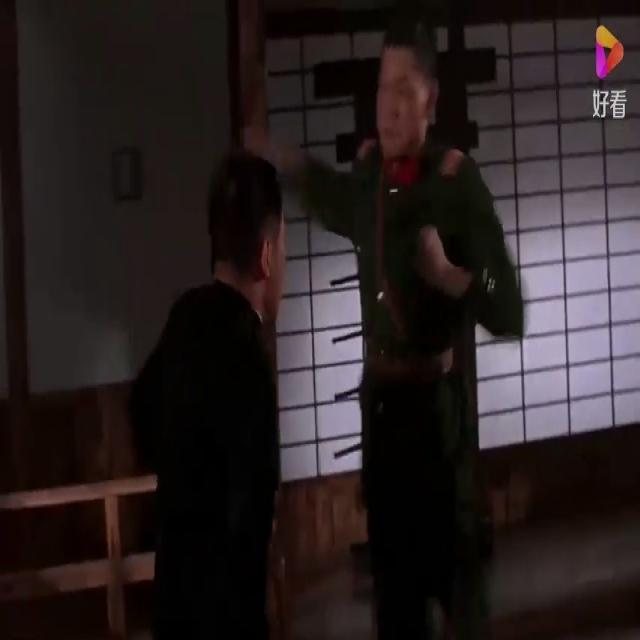fight: (93, 0, 566, 639)
